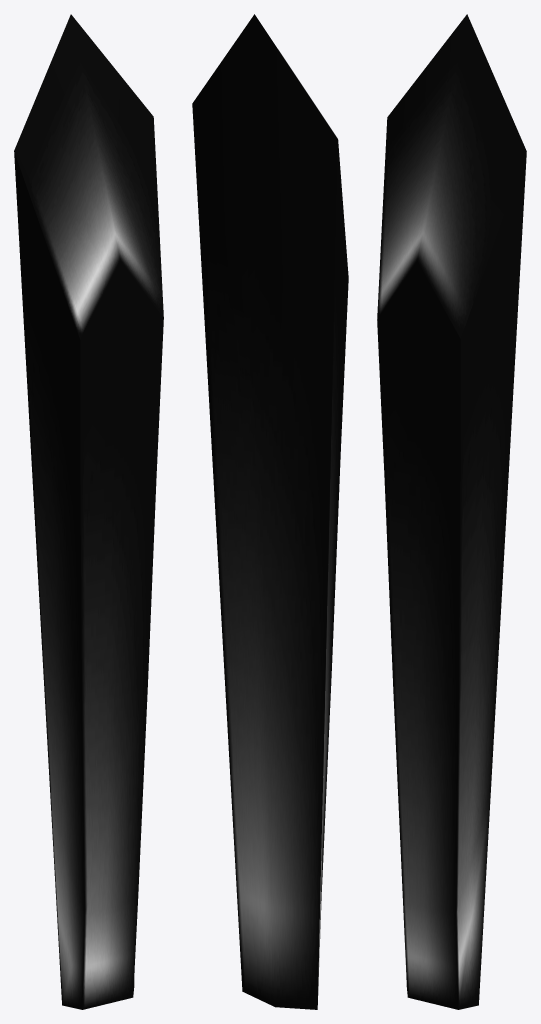
The model's file is 0414_shexian_M_01.glb.
3 views of the same model, side by side, from view 1: azimuth 30°, elevation 25°; view 2: azimuth 150°, elevation 25°; view 3: azimuth 330°, elevation 25° (orthographic). The views are drawn at different scales.
Size of the model in its own units: 0.3335 by 2.2 by 0.2056.
1 material, 1 textured.
